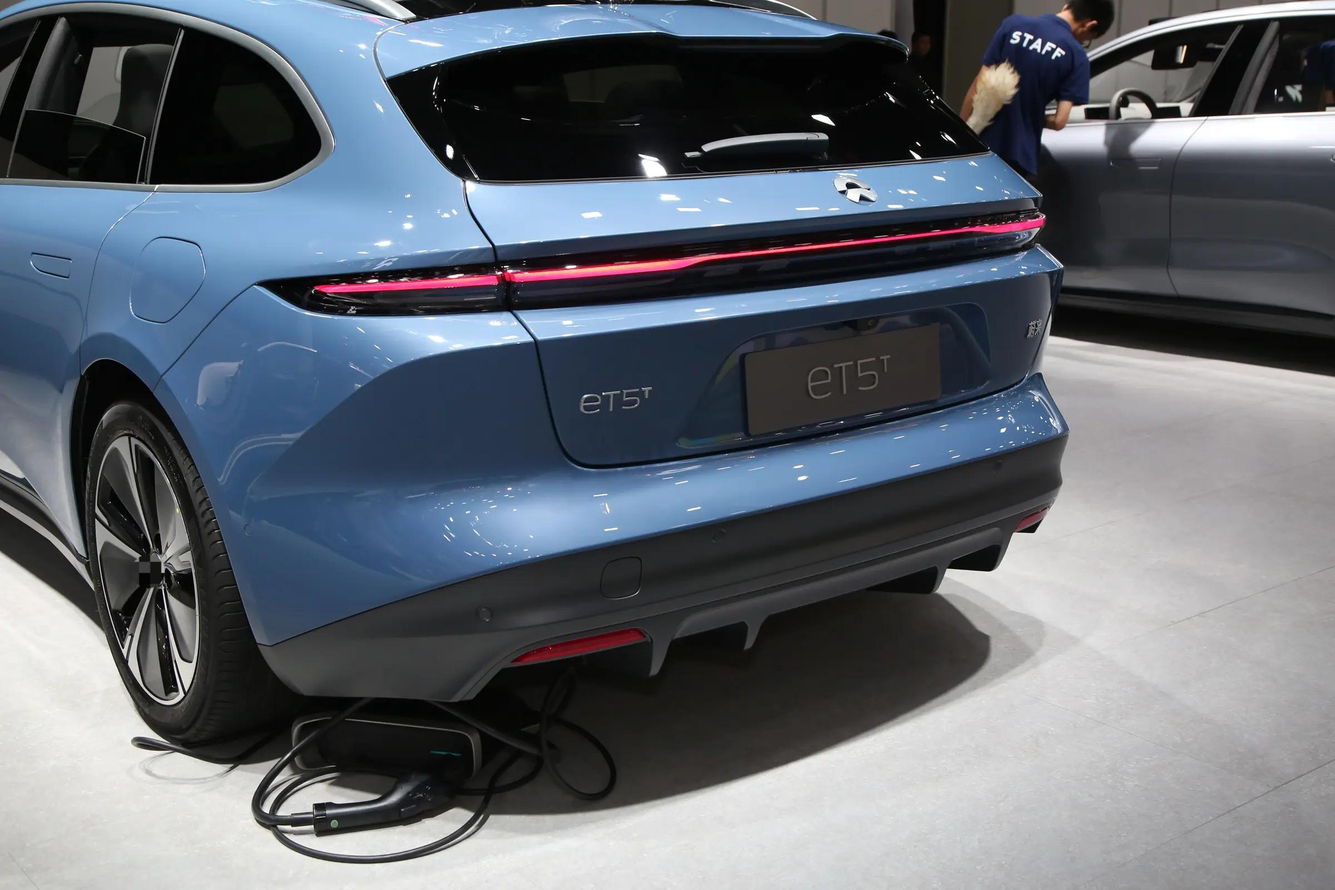NIO: (833, 175, 877, 204)
